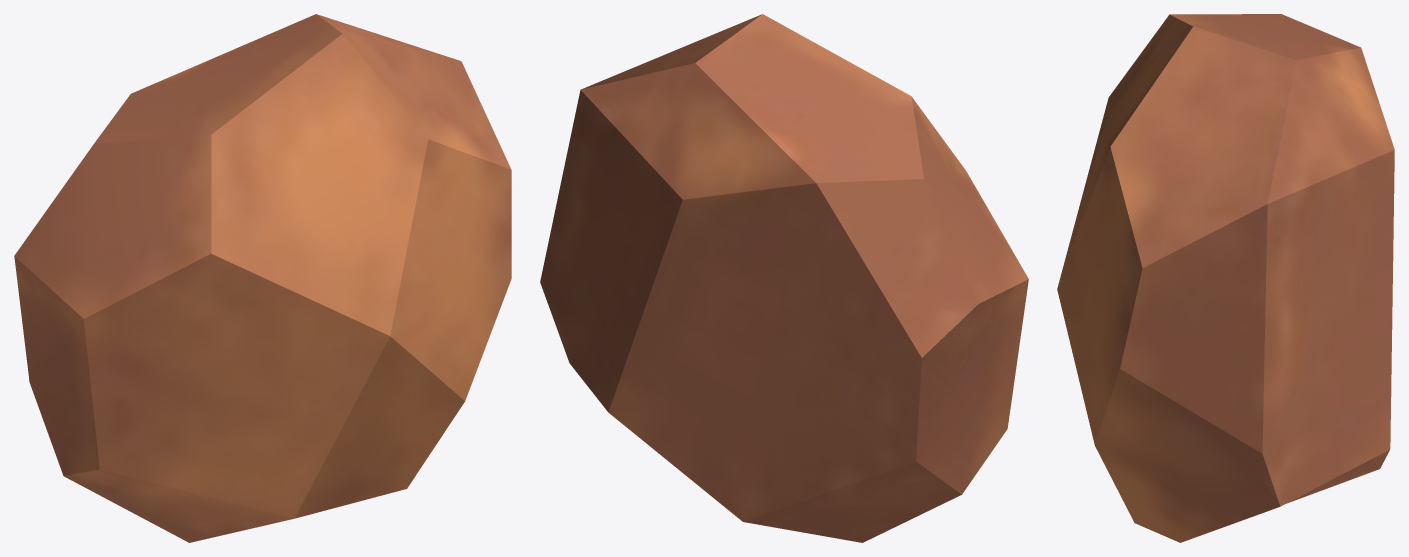
Rendered from Rock_10.gltf.
The picture shows the model from 3 angles, left to right: view 1: azimuth 30°, elevation 25°; view 2: azimuth 150°, elevation 25°; view 3: azimuth 270°, elevation 25°; orthographic projection. The views are drawn at different scales.
Visible parts, largest first — view 1: Rock_10; view 2: Rock_10; view 3: Rock_10.
Boxes of the visible parts, <box> form: Rock_10: <box>14,14,511,542</box>; Rock_10: <box>540,14,1028,542</box>; Rock_10: <box>1057,14,1394,542</box>.
Size of the model in its own units: 1.67 by 1.67 by 0.959.
1 material, 1 textured.
